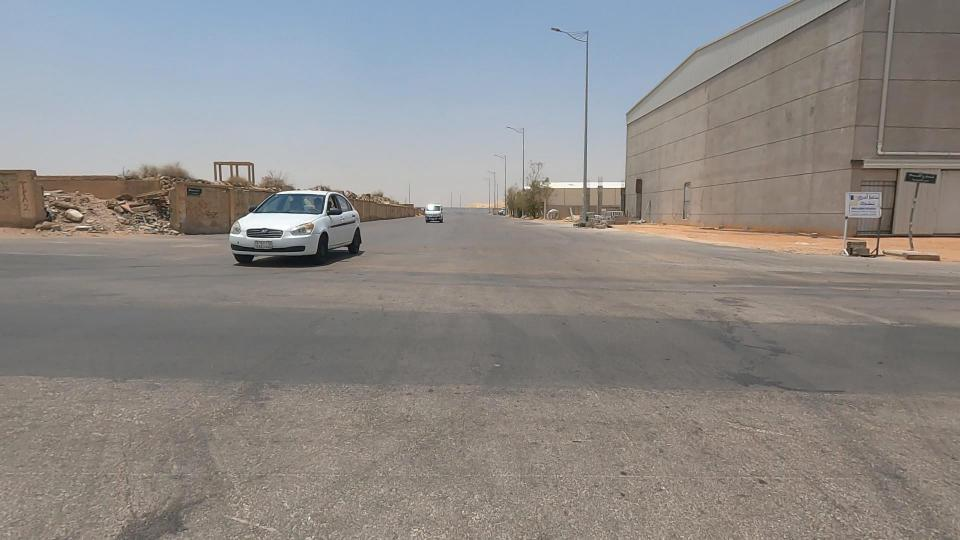GARBAGE: (76, 171, 216, 256), (21, 180, 128, 253), (557, 200, 627, 251)
